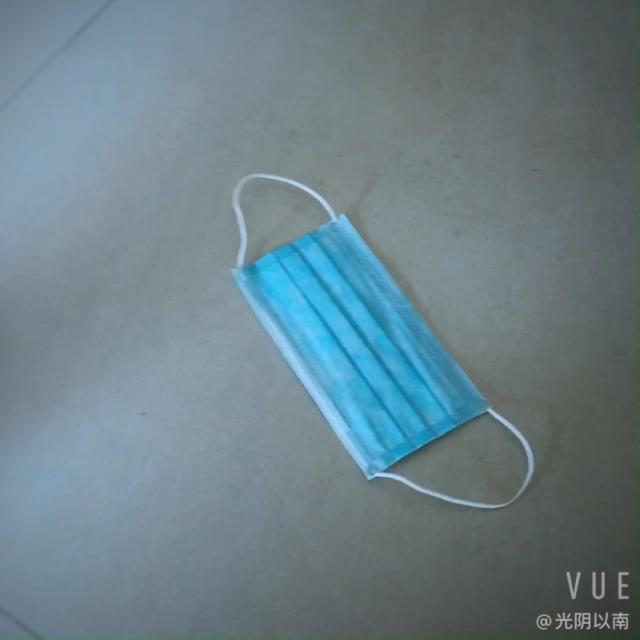non-organic waste: (240, 208, 483, 465)
